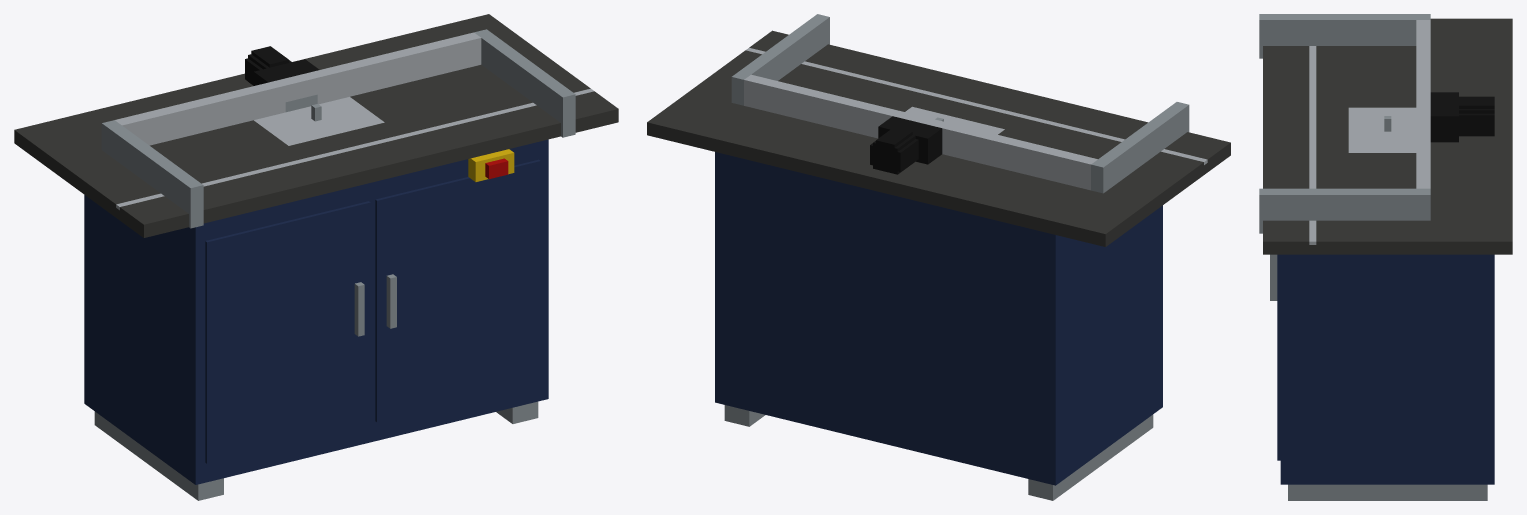
Rendered from router_table.glb.
3 views of the same model, side by side, from view 1: azimuth 30°, elevation 25°; view 2: azimuth 150°, elevation 25°; view 3: azimuth 270°, elevation 25° (orthographic). The views are drawn at different scales.
Visible parts, largest first — view 1: router_table:compound; view 2: router_table:compound; view 3: router_table:compound.
Boxes of the visible parts, bbox=[...] form: router_table:compound: bbox=[14, 14, 618, 500]; router_table:compound: bbox=[647, 14, 1230, 500]; router_table:compound: bbox=[1259, 14, 1512, 500].
Size of the model in its own units: 1.48 by 0.99 by 0.71.
